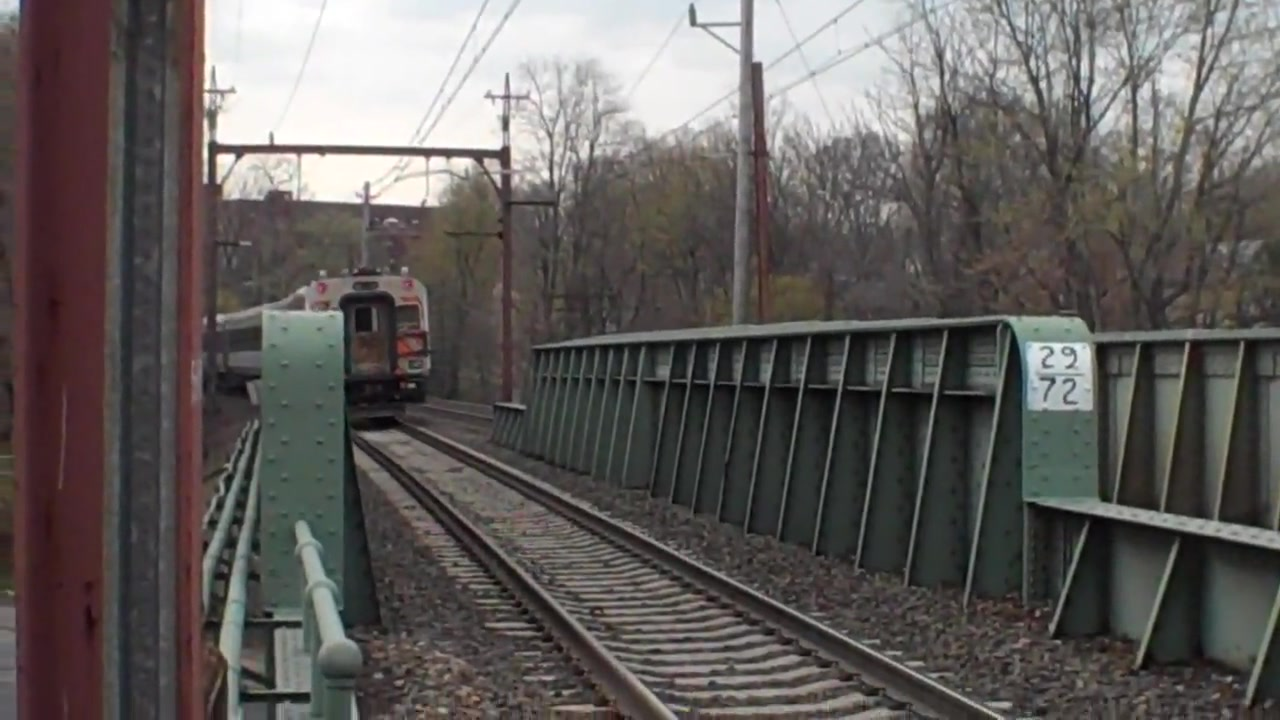train: (202, 263, 435, 425)
